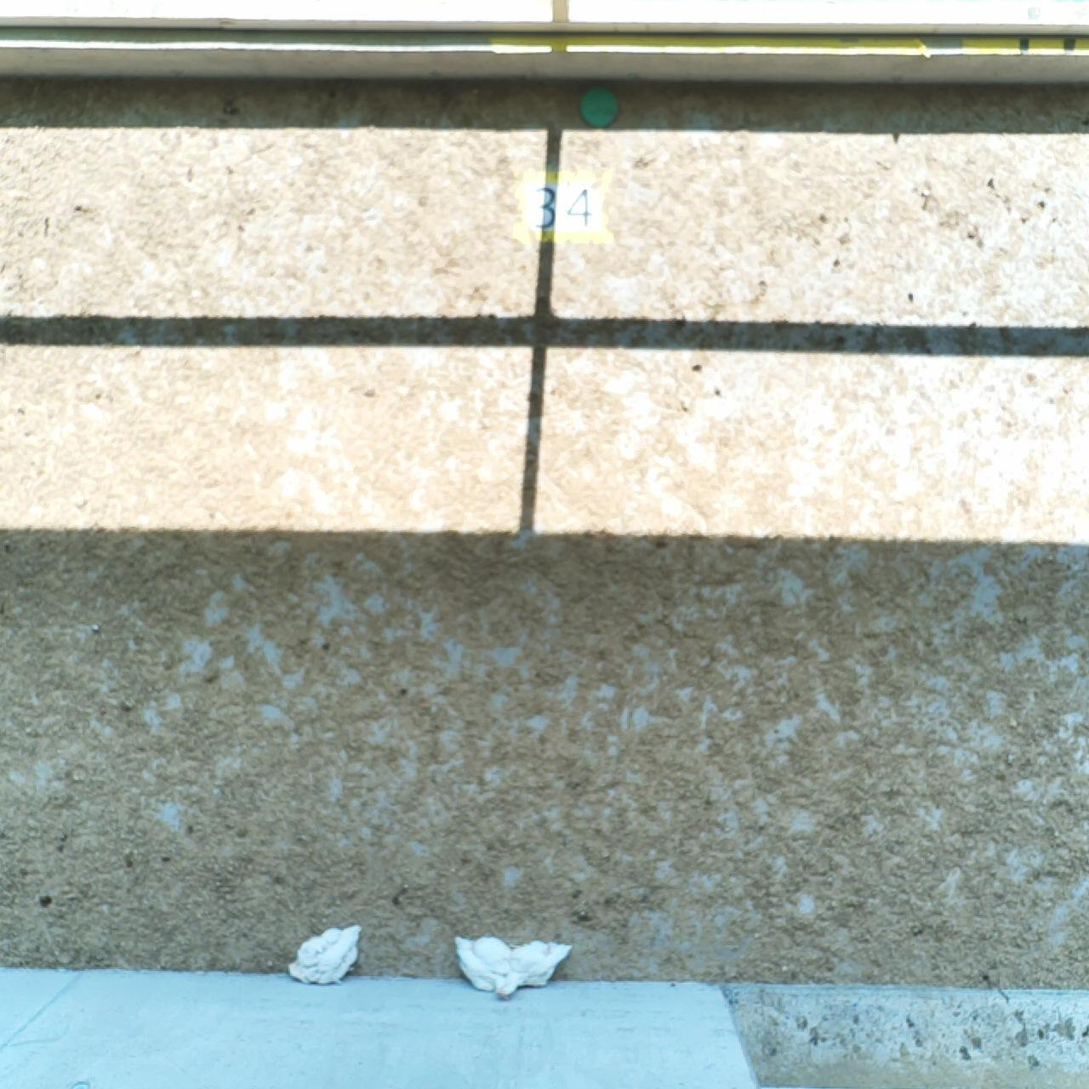chicken: (492, 936, 575, 999), (285, 922, 366, 986), (450, 932, 523, 997)
